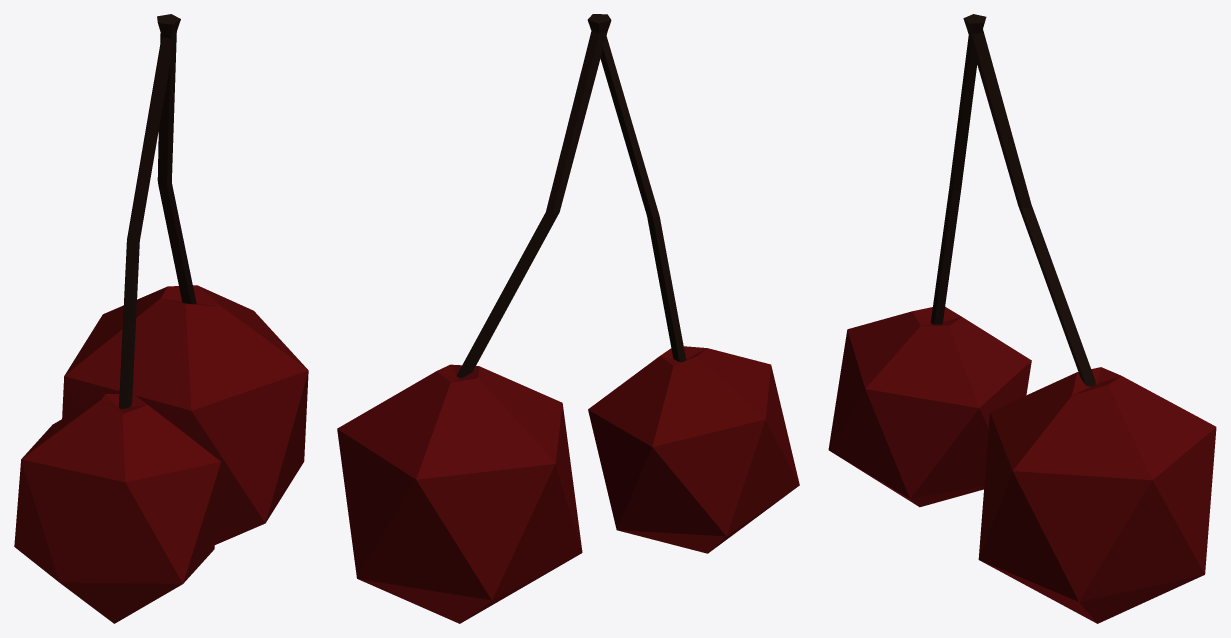
File: cherries.obj
The picture shows the model from 3 angles, left to right: view 1: azimuth 30°, elevation 25°; view 2: azimuth 150°, elevation 25°; view 3: azimuth 270°, elevation 25°; orthographic projection. The views are drawn at different scales.
Visible parts, largest first — view 1: Cube_Cube.001; view 2: Cube_Cube.001; view 3: Cube_Cube.001.
Boxes of the visible parts, x1,y1,x2,y2 form: Cube_Cube.001: [14, 14, 308, 623]; Cube_Cube.001: [337, 14, 799, 623]; Cube_Cube.001: [828, 14, 1216, 623].
Bounding box in the file's own units: 0.8637 × 1.42 × 0.8812.
